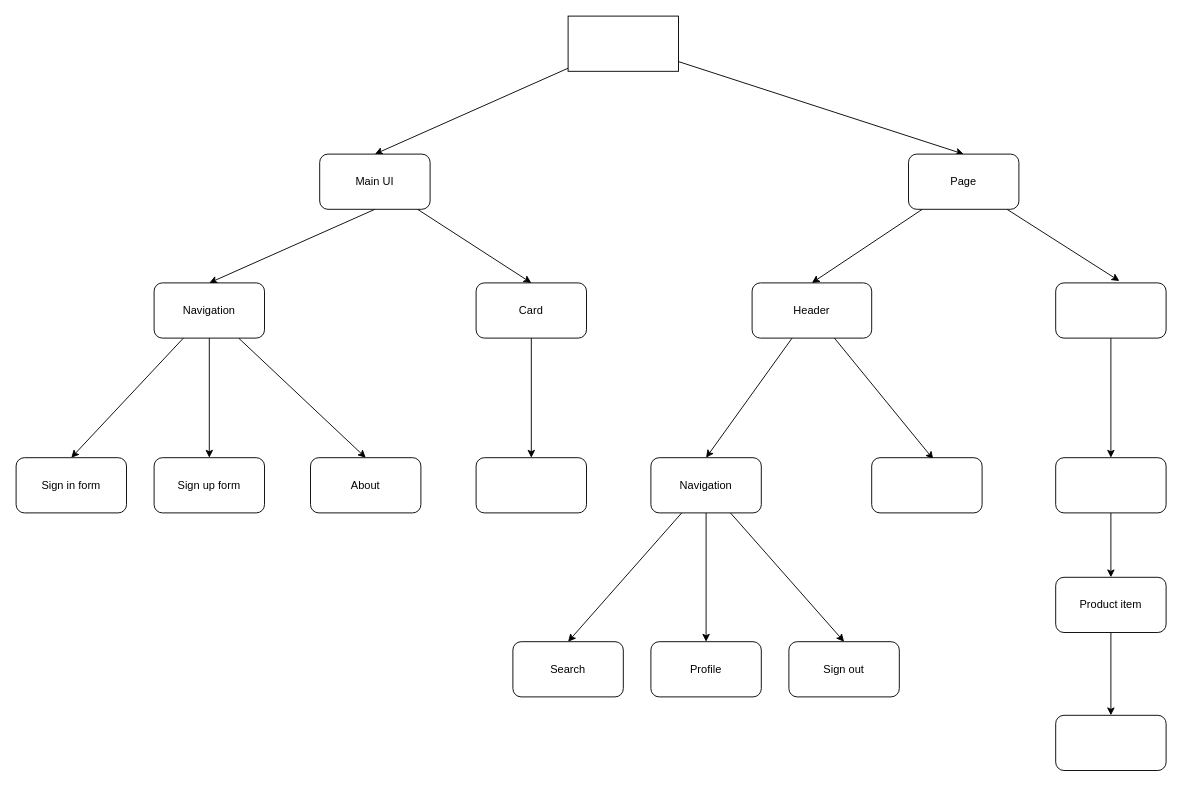
This 1182x787 diagram has some shape labels left out. The centre of each missing label's shape, as x and y in pixels:
App: (622,43)
Body: (1110,310)
Card Item: (530,485)
Detail Item: (1110,742)
Filter: (926,485)
Product List: (1110,485)
